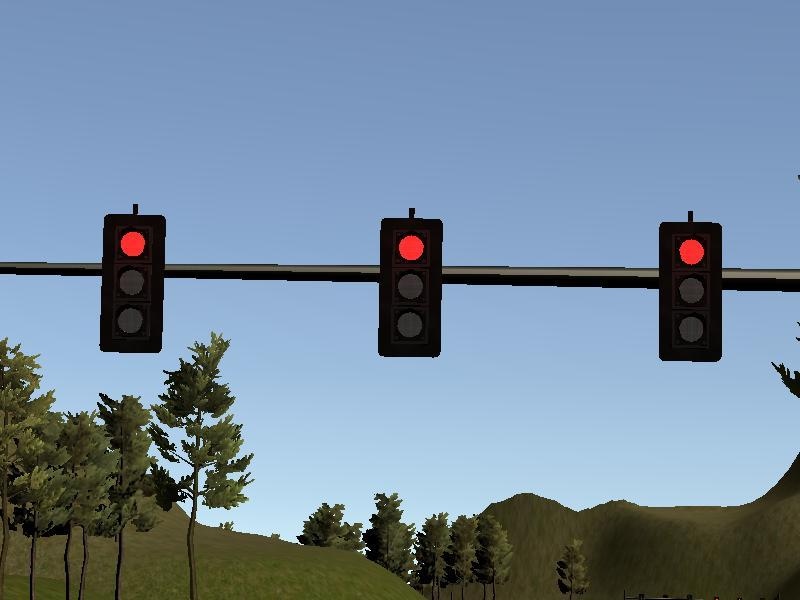Red: (105, 217, 164, 350), (662, 224, 720, 358), (382, 219, 438, 353)
